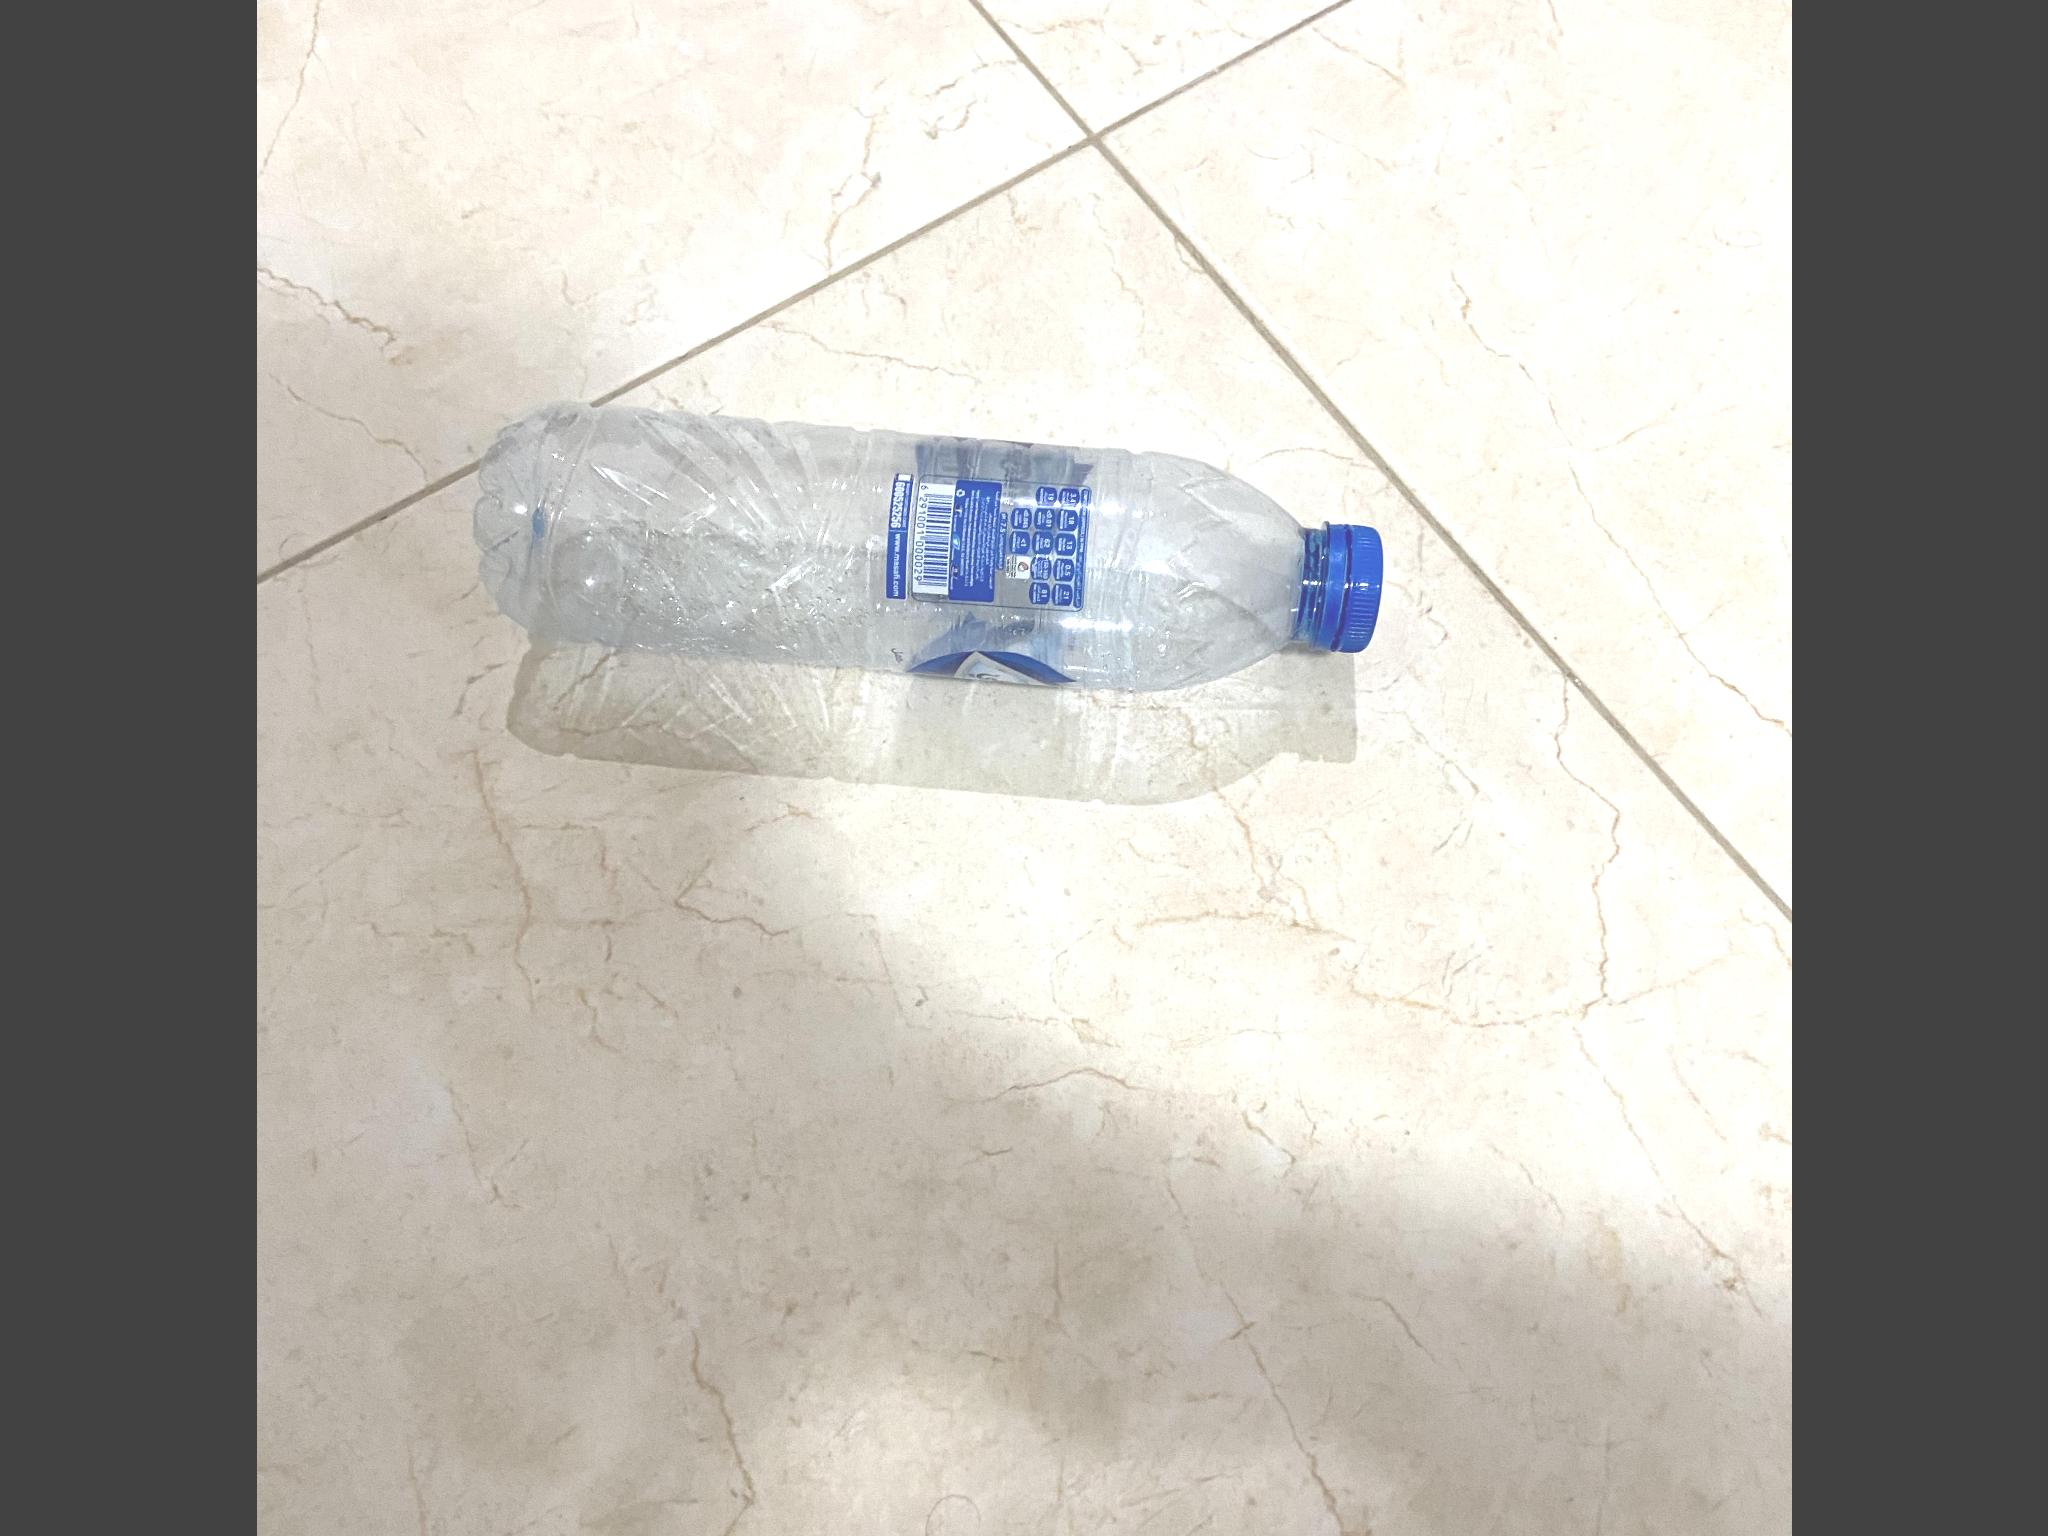bottle: (463, 339, 1419, 712)
